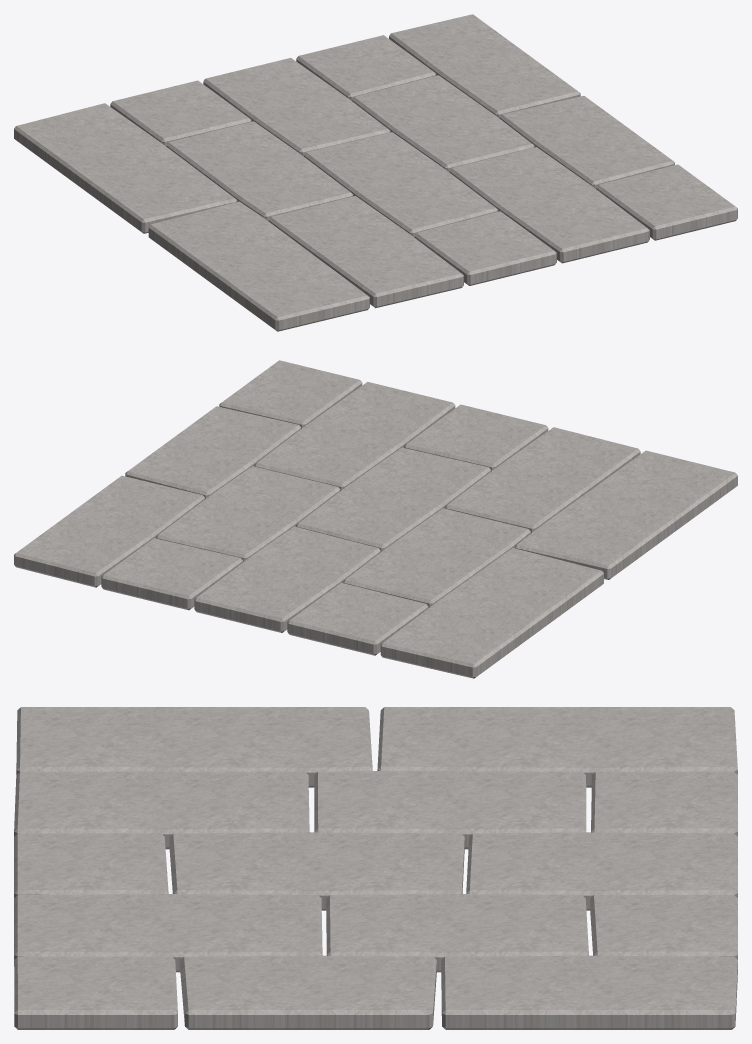
File: floor.glb
3 views of the same model, one above another, from view 1: azimuth 30°, elevation 25°; view 2: azimuth 150°, elevation 25°; view 3: azimuth 270°, elevation 25° (orthographic). The views are drawn at different scales.
Parts seen in each view (by area): view 1: Plane-col; view 2: Plane-col; view 3: Plane-col.
Part boxes in pixels (bbox=[...]): Plane-col: bbox=[14, 14, 737, 331]; Plane-col: bbox=[14, 360, 737, 678]; Plane-col: bbox=[14, 707, 737, 1029].
Bounding box in the file's own units: 3.36 × 0.1015 × 3.36.
Materials: 1 (1 with a texture image).
